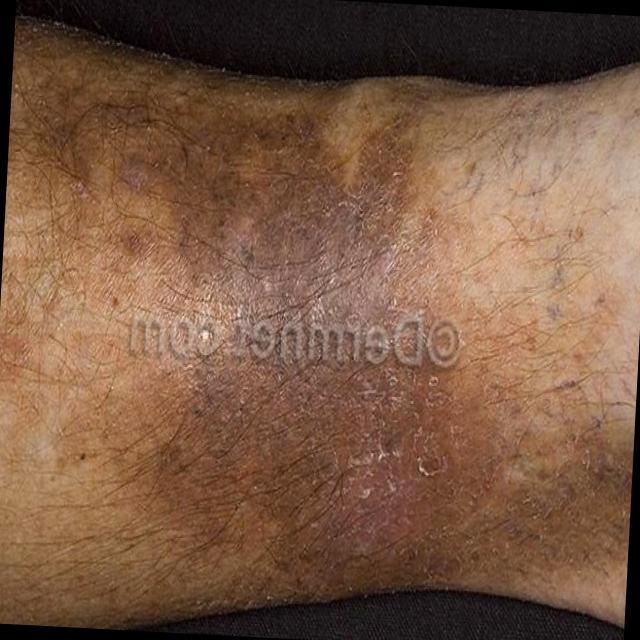Eczema: (89, 55, 629, 575)
